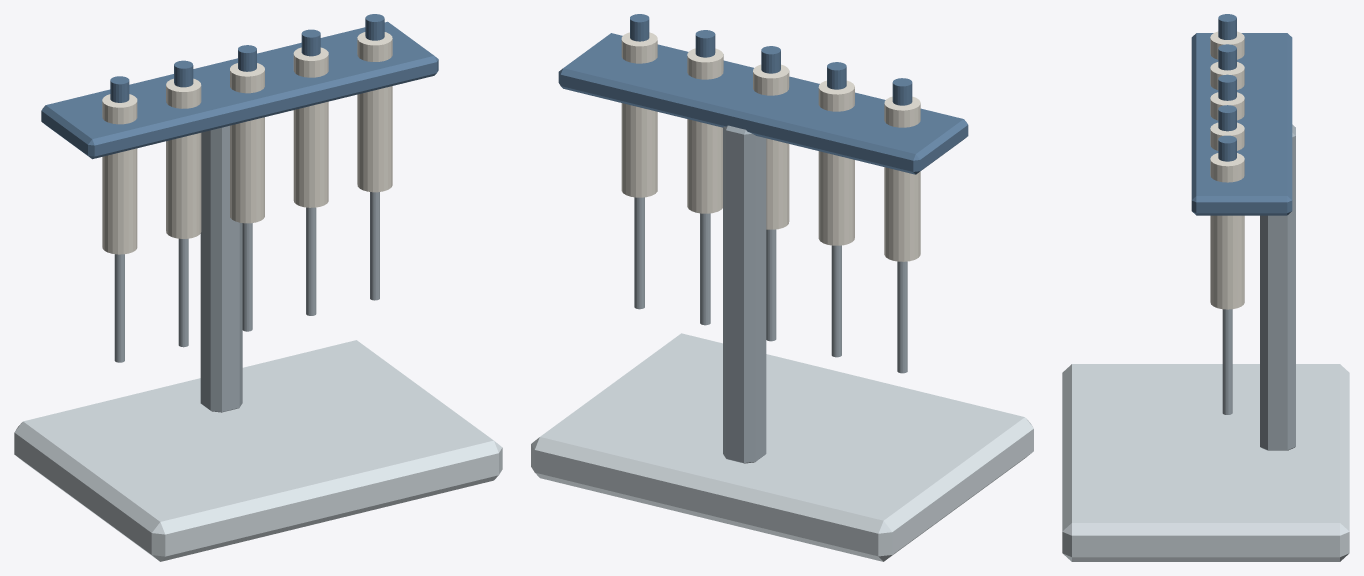
File: lab_11.glb
The picture shows the model from 3 angles, left to right: view 1: azimuth 30°, elevation 25°; view 2: azimuth 150°, elevation 25°; view 3: azimuth 270°, elevation 25°; orthographic projection. The views are drawn at different scales.
Visible parts, largest first — view 1: StationBase, PipetteHandle (×5), PipetteCrossbar, StationUpright, PipetteTip (×5); view 2: StationBase, PipetteCrossbar, PipetteHandle (×5), StationUpright, PipetteTip (×5); view 3: StationBase, PipetteCrossbar, StationUpright, PipetteHandle (×5), PipetteButton (×5), PipetteTip.
Part boxes in pixels (x1,y1,x2,y2): StationBase: (14, 340, 502, 561); PipetteHandle (×5): (102, 32, 392, 254); PipetteCrossbar: (41, 21, 438, 159); StationUpright: (200, 125, 242, 412); PipetteTip (×5): (114, 192, 379, 362); StationBase: (531, 333, 1033, 561); PipetteCrossbar: (558, 33, 968, 174); PipetteHandle (×5): (621, 32, 920, 261); StationUpright: (723, 125, 766, 463); PipetteTip (×5): (634, 197, 907, 373); StationBase: (1062, 364, 1349, 561); PipetteCrossbar: (1191, 33, 1292, 215); StationUpright: (1260, 124, 1295, 450); PipetteHandle (×5): (1210, 31, 1244, 309); PipetteButton (×5): (1218, 14, 1236, 161); PipetteTip: (1222, 309, 1232, 414).
Bounding box in the file's own units: 0.55 × 0.62 × 0.4.
